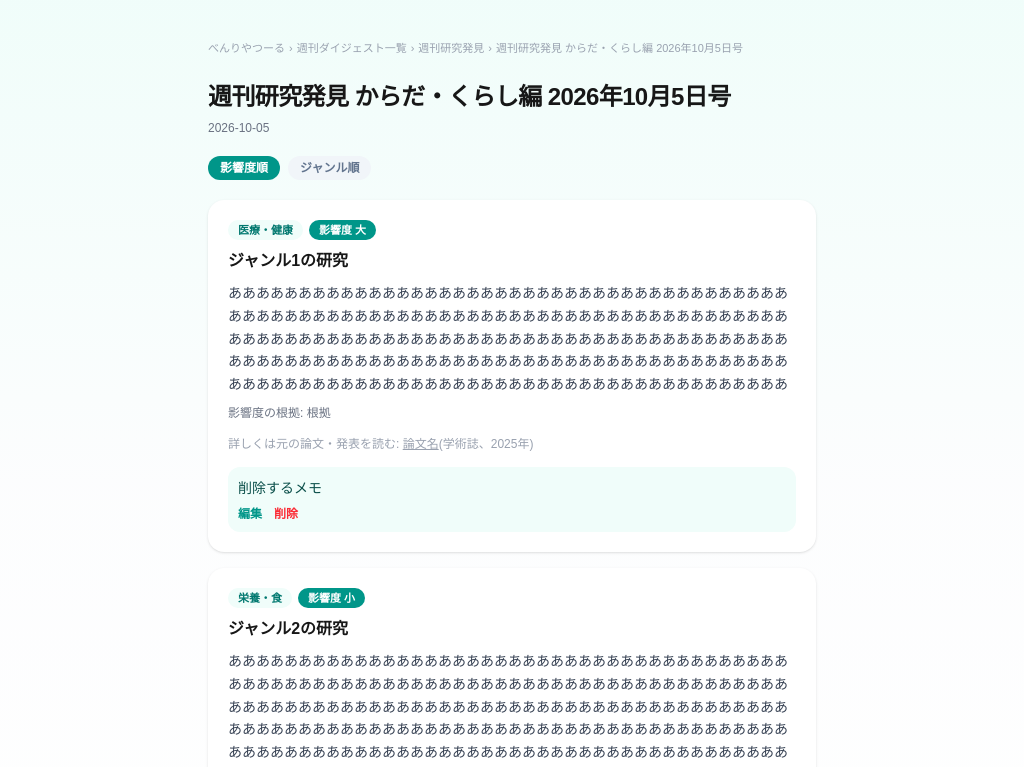
Test: 記事詳細ページでの付箋変更の反映 - 作成・編集・削除をその場で記事内の付箋一覧に反映する › 付箋を削除すると、再取得を待たずに「付箋を貼る」の表示に戻ること
expect the text "削除するメモ" is shown: met, box top-left (238, 480), bottom-right (322, 496)
Step 1. Click the button "削除" → (286, 514), box top-left (274, 506), bottom-right (298, 522)
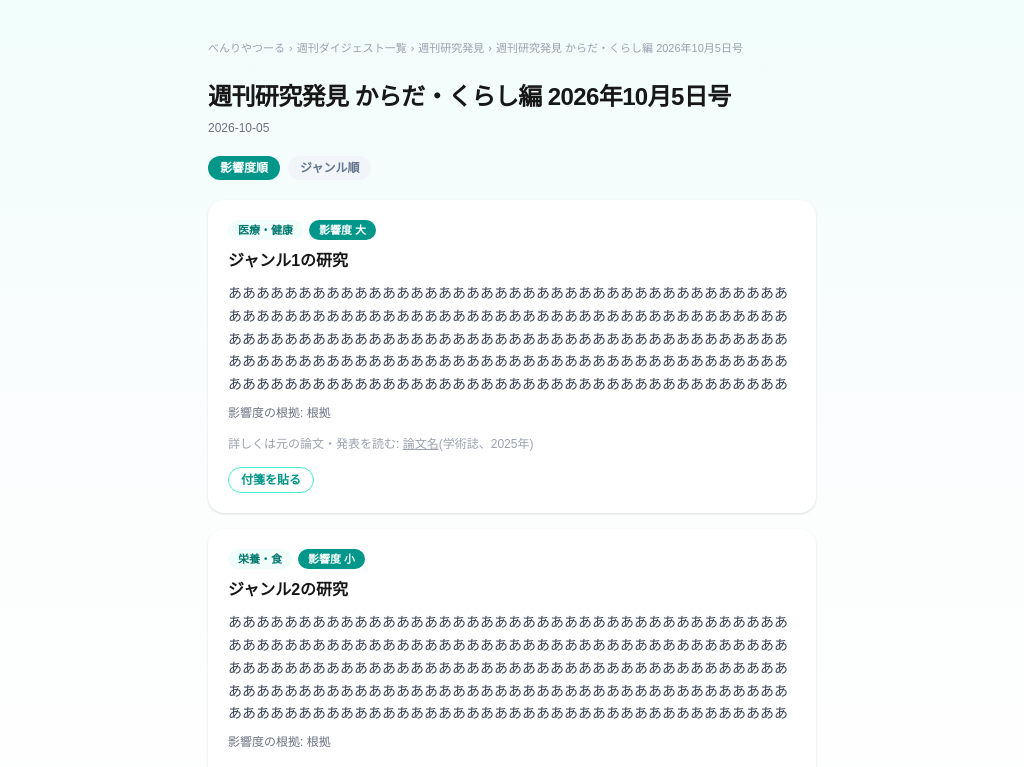
expect the text "削除するメモ" is gone: met
expect the number of buttons "付箋を貼る" is 2: met
